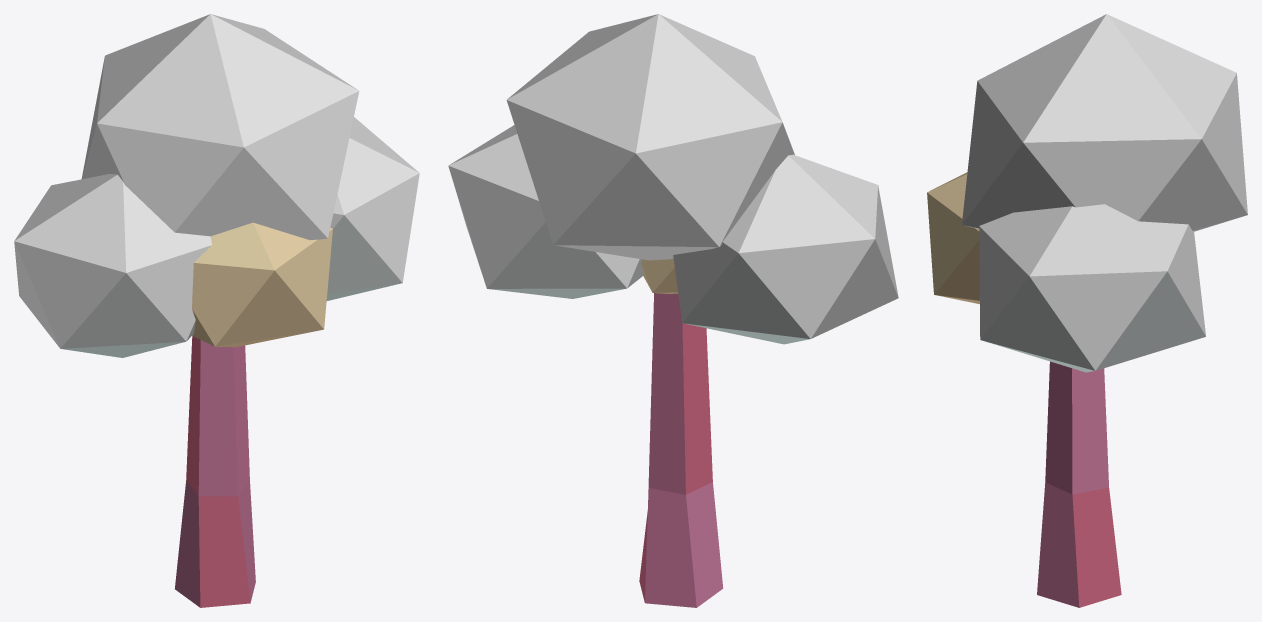
The model's file is broadleaf_low.glb.
3 views of the same model, side by side, from view 1: azimuth 30°, elevation 25°; view 2: azimuth 150°, elevation 25°; view 3: azimuth 270°, elevation 25° (orthographic). The views are drawn at different scales.
Visible parts, largest first — view 1: broadleaf_low; view 2: broadleaf_low; view 3: broadleaf_low.
Boxes of the visible parts, left/top/right/bottom form: broadleaf_low: left=14, top=14, right=419, bottom=607; broadleaf_low: left=448, top=14, right=898, bottom=607; broadleaf_low: left=927, top=14, right=1247, bottom=607.
Size of the model in its own units: 1.36 by 1.86 by 0.9368.
